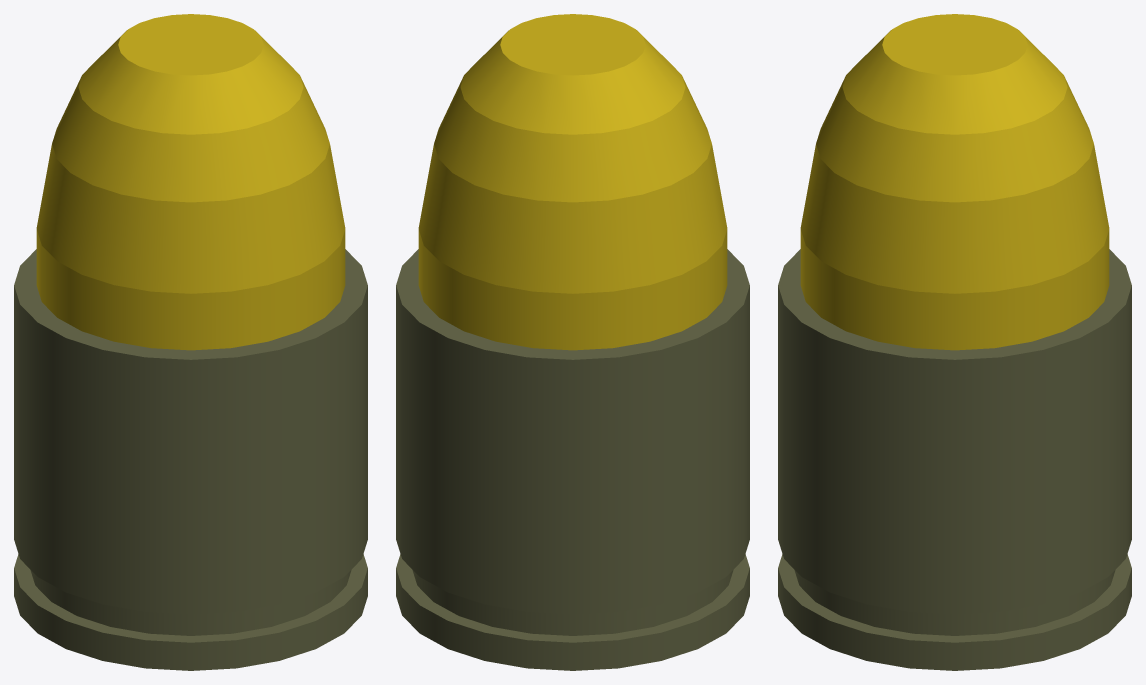
The model's file is ammo_machinegunLauncher.fbx.
3 renders of one model, left to right at view 1: azimuth 30°, elevation 25°; view 2: azimuth 150°, elevation 25°; view 3: azimuth 270°, elevation 25°, orthographic.
Parts seen in each view (by area): view 1: Mesh2_Group3 Group1 Model, Mesh1_Group2 Group1 Model; view 2: Mesh2_Group3 Group1 Model, Mesh1_Group2 Group1 Model; view 3: Mesh2_Group3 Group1 Model, Mesh1_Group2 Group1 Model.
Part boxes in pixels (x1,y1,x2,y2): Mesh2_Group3 Group1 Model: (14, 249, 367, 670); Mesh1_Group2 Group1 Model: (36, 14, 345, 350); Mesh2_Group3 Group1 Model: (396, 249, 749, 670); Mesh1_Group2 Group1 Model: (418, 14, 727, 350); Mesh2_Group3 Group1 Model: (778, 249, 1131, 670); Mesh1_Group2 Group1 Model: (800, 14, 1109, 350).
Size of the model in its own units: 0.0068 by 0.0117 by 0.0068.
